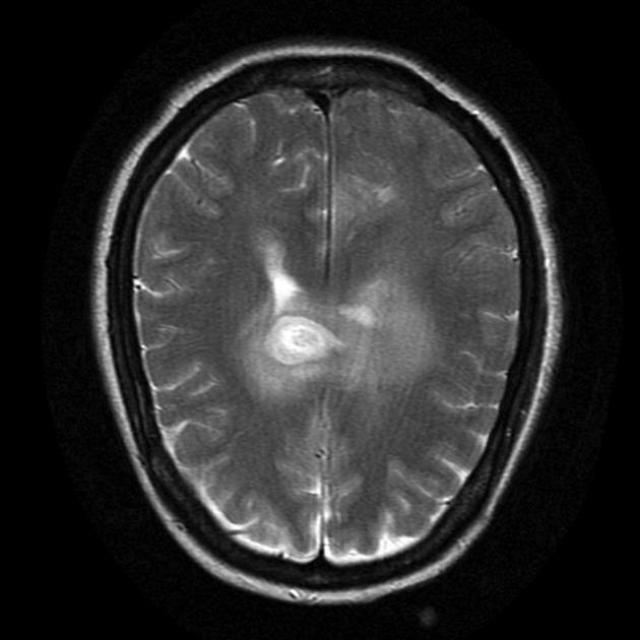Tumor-Cell: (260, 306, 346, 374)
